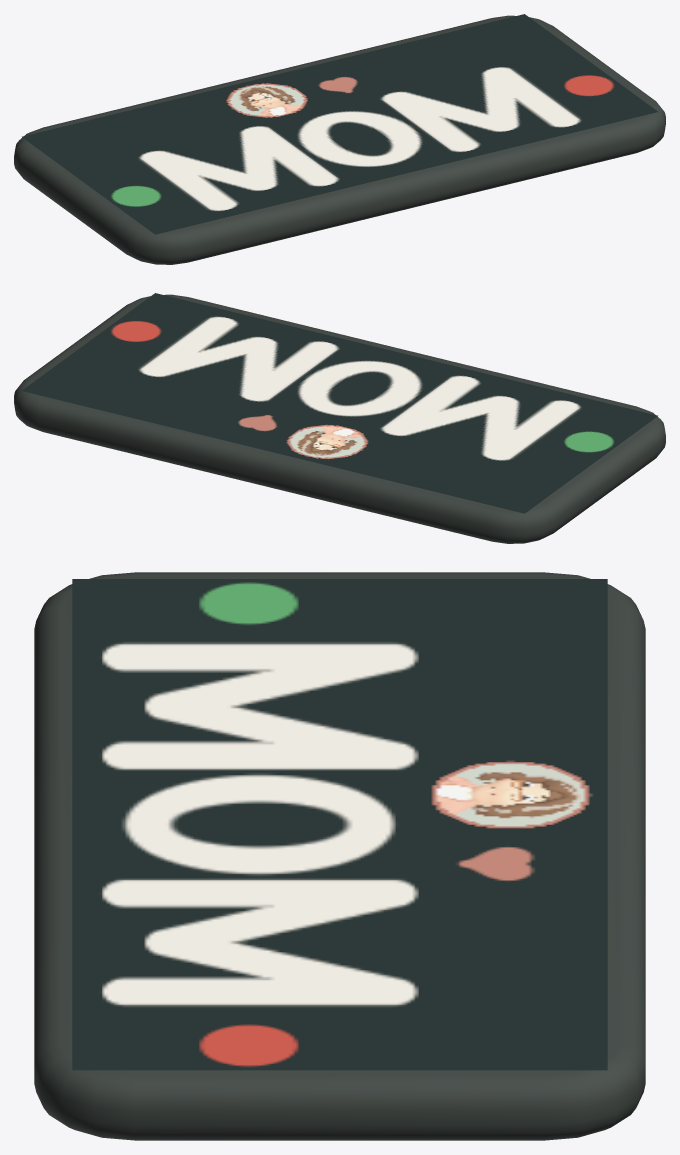
The model's file is phone.glb.
3 views of the same model, one above another, from view 1: azimuth 30°, elevation 25°; view 2: azimuth 150°, elevation 25°; view 3: azimuth 270°, elevation 25° (orthographic). The views are drawn at different scales.
Parts seen in each view (by area): view 1: Screen, Case; view 2: Screen, Case; view 3: Screen, Case.
Boxes of the visible parts, box(x1,y1,x2,y2) form: Screen: box(22, 14, 657, 234); Case: box(14, 15, 665, 264); Screen: box(22, 293, 657, 513); Case: box(14, 294, 665, 543); Screen: box(72, 579, 607, 1070); Case: box(34, 572, 645, 1140).
Bounding box in the file's own units: 0.162 × 0.0091 × 0.08.
Materials: 2 (1 with a texture image).
